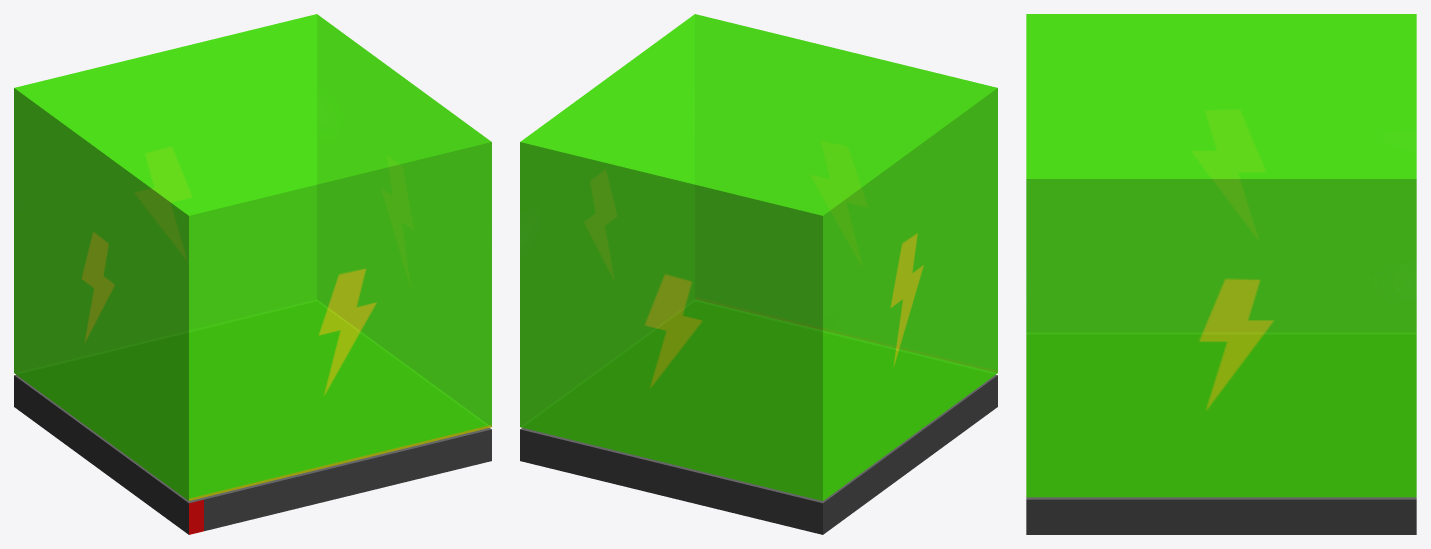
The model's file is charger.fbx.
The picture shows the model from 3 angles, left to right: view 1: azimuth 30°, elevation 25°; view 2: azimuth 150°, elevation 25°; view 3: azimuth 270°, elevation 25°; orthographic projection. The views are drawn at different scales.
Visible parts, largest first — view 1: Top, Base; view 2: Top, Base; view 3: Top, Base.
Boxes of the visible parts, x1=… form: Top: x1=14, y1=14, x2=491, y2=500; Base: x1=14, y1=375, x2=491, y2=534; Top: x1=520, y1=14, x2=997, y2=500; Base: x1=520, y1=375, x2=997, y2=534; Top: x1=1026, y1=14, x2=1416, y2=497; Base: x1=1026, y1=497, x2=1416, y2=534.
Bounding box in the file's own units: 1 × 1.01 × 1.
